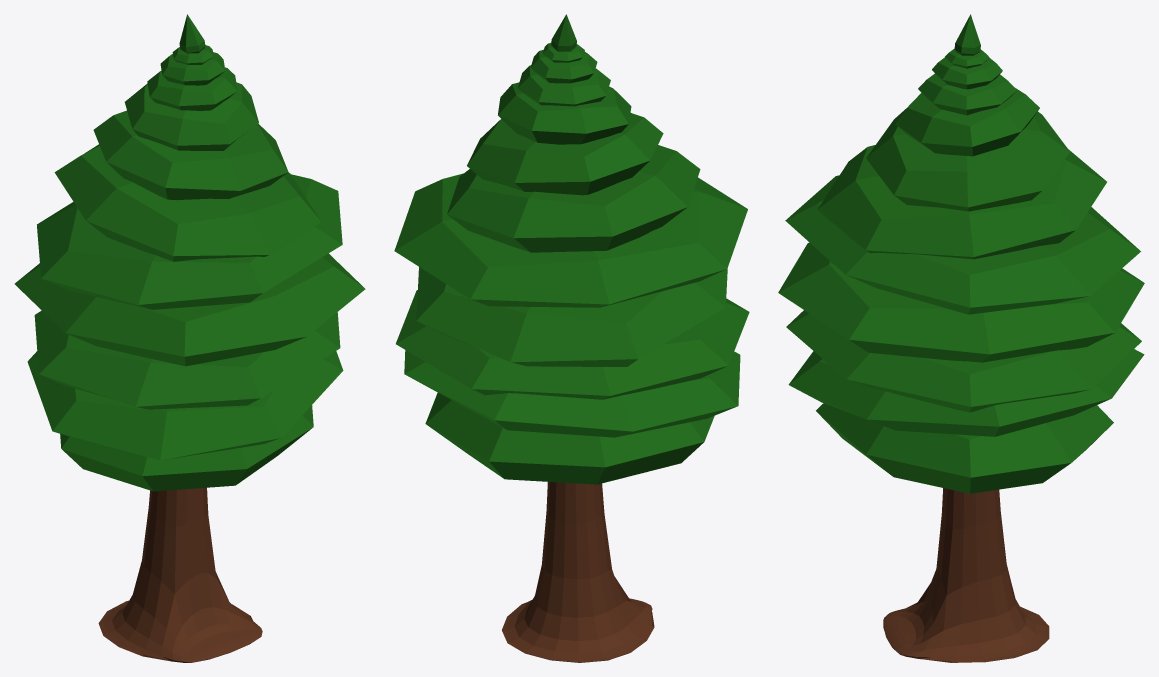
File: Tree1_v.1.5.fbx
3 views of the same model, side by side, from view 1: azimuth 30°, elevation 25°; view 2: azimuth 150°, elevation 25°; view 3: azimuth 270°, elevation 25° (orthographic). The views are drawn at different scales.
Parts seen in each view (by area): view 1: Fourth-L; view 2: Fourth-L; view 3: Fourth-L.
Part boxes in pixels (x1,y1,x2,y2): Fourth-L: (14, 14, 365, 662); Fourth-L: (394, 14, 749, 662); Fourth-L: (778, 14, 1144, 662).
Size of the model in its own units: 1020 by 1948 by 1036.
